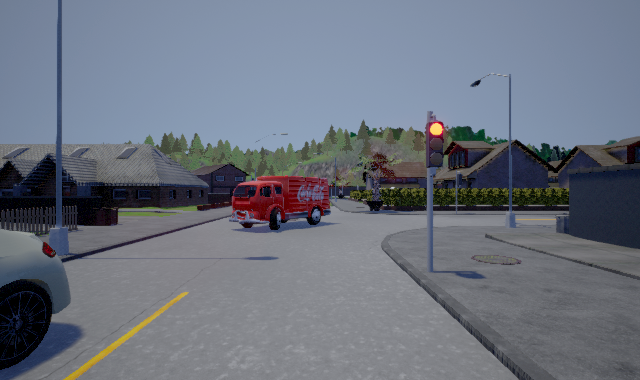traffic_light: (426, 114, 444, 177)
vehicle: (1, 229, 71, 370), (229, 175, 331, 230)
